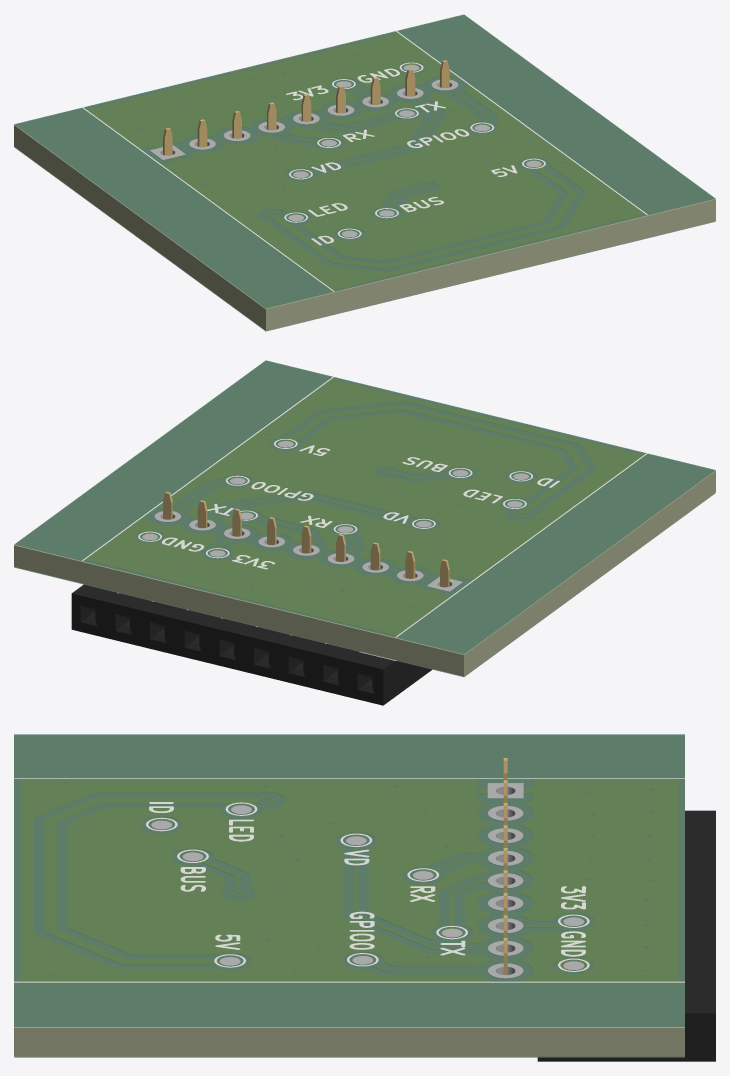
The model's file is board.glb.
The picture shows the model from 3 angles, top to bottom: view 1: azimuth 30°, elevation 25°; view 2: azimuth 150°, elevation 25°; view 3: azimuth 270°, elevation 25°; orthographic projection. The views are drawn at different scales.
Visible parts, largest first — view 1: board_soldermask (×2), board_PCB, board_copper, board_silkscreen, board_pad, PinSocket_1x09_P2.54mm_Horizontal; view 2: board_soldermask (×2), board_PCB, board_copper, PinSocket_1x09_P2.54mm_Horizontal, board_silkscreen, board_pad; view 3: board_soldermask (×2), board_copper, board_PCB, PinSocket_1x09_P2.54mm_Horizontal, board_silkscreen, board_pad.
Boxes of the visible parts, <box> form: board_soldermask (×2): <box>14,14,715,331</box>; board_PCB: <box>14,16,715,330</box>; board_copper: <box>87,34,643,289</box>; board_silkscreen: <box>82,30,647,291</box>; board_pad: <box>150,65,541,237</box>; PinSocket_1x09_P2.54mm_Horizontal: <box>163,60,449,155</box>; board_soldermask (×2): <box>14,360,715,677</box>; board_PCB: <box>14,361,715,676</box>; board_copper: <box>86,380,642,635</box>; PinSocket_1x09_P2.54mm_Horizontal: <box>71,492,449,705</box>; board_silkscreen: <box>82,376,647,637</box>; board_pad: <box>142,441,528,591</box>; board_soldermask (×2): <box>14,734,684,1057</box>; board_copper: <box>21,779,677,980</box>; board_PCB: <box>14,736,684,1056</box>; PinSocket_1x09_P2.54mm_Horizontal: <box>503,758,715,1061</box>; board_silkscreen: <box>14,778,684,982</box>; board_pad: <box>151,783,584,978</box>.
Size of the model in its own units: 0.033 by 0.00584 by 0.0335.
